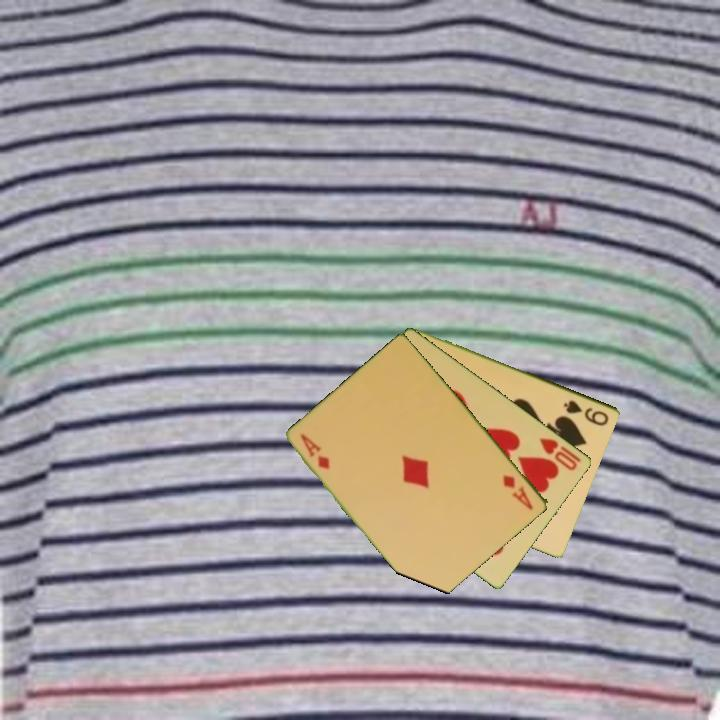10h: (536, 434, 584, 474)
9s: (560, 396, 612, 429)
Ad: (499, 471, 536, 513), (297, 430, 333, 472)
